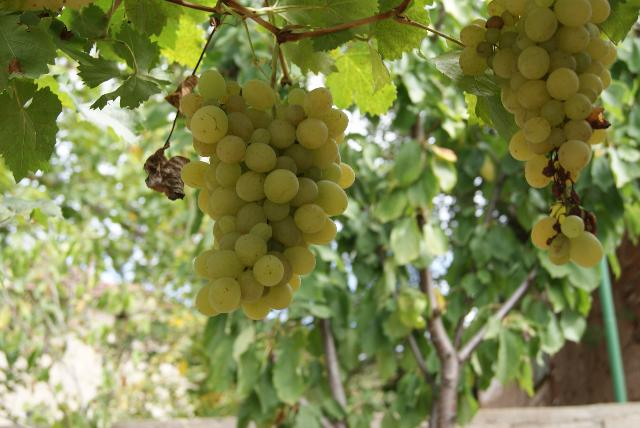grapes: (180, 70, 355, 320), (460, 0, 618, 269)
